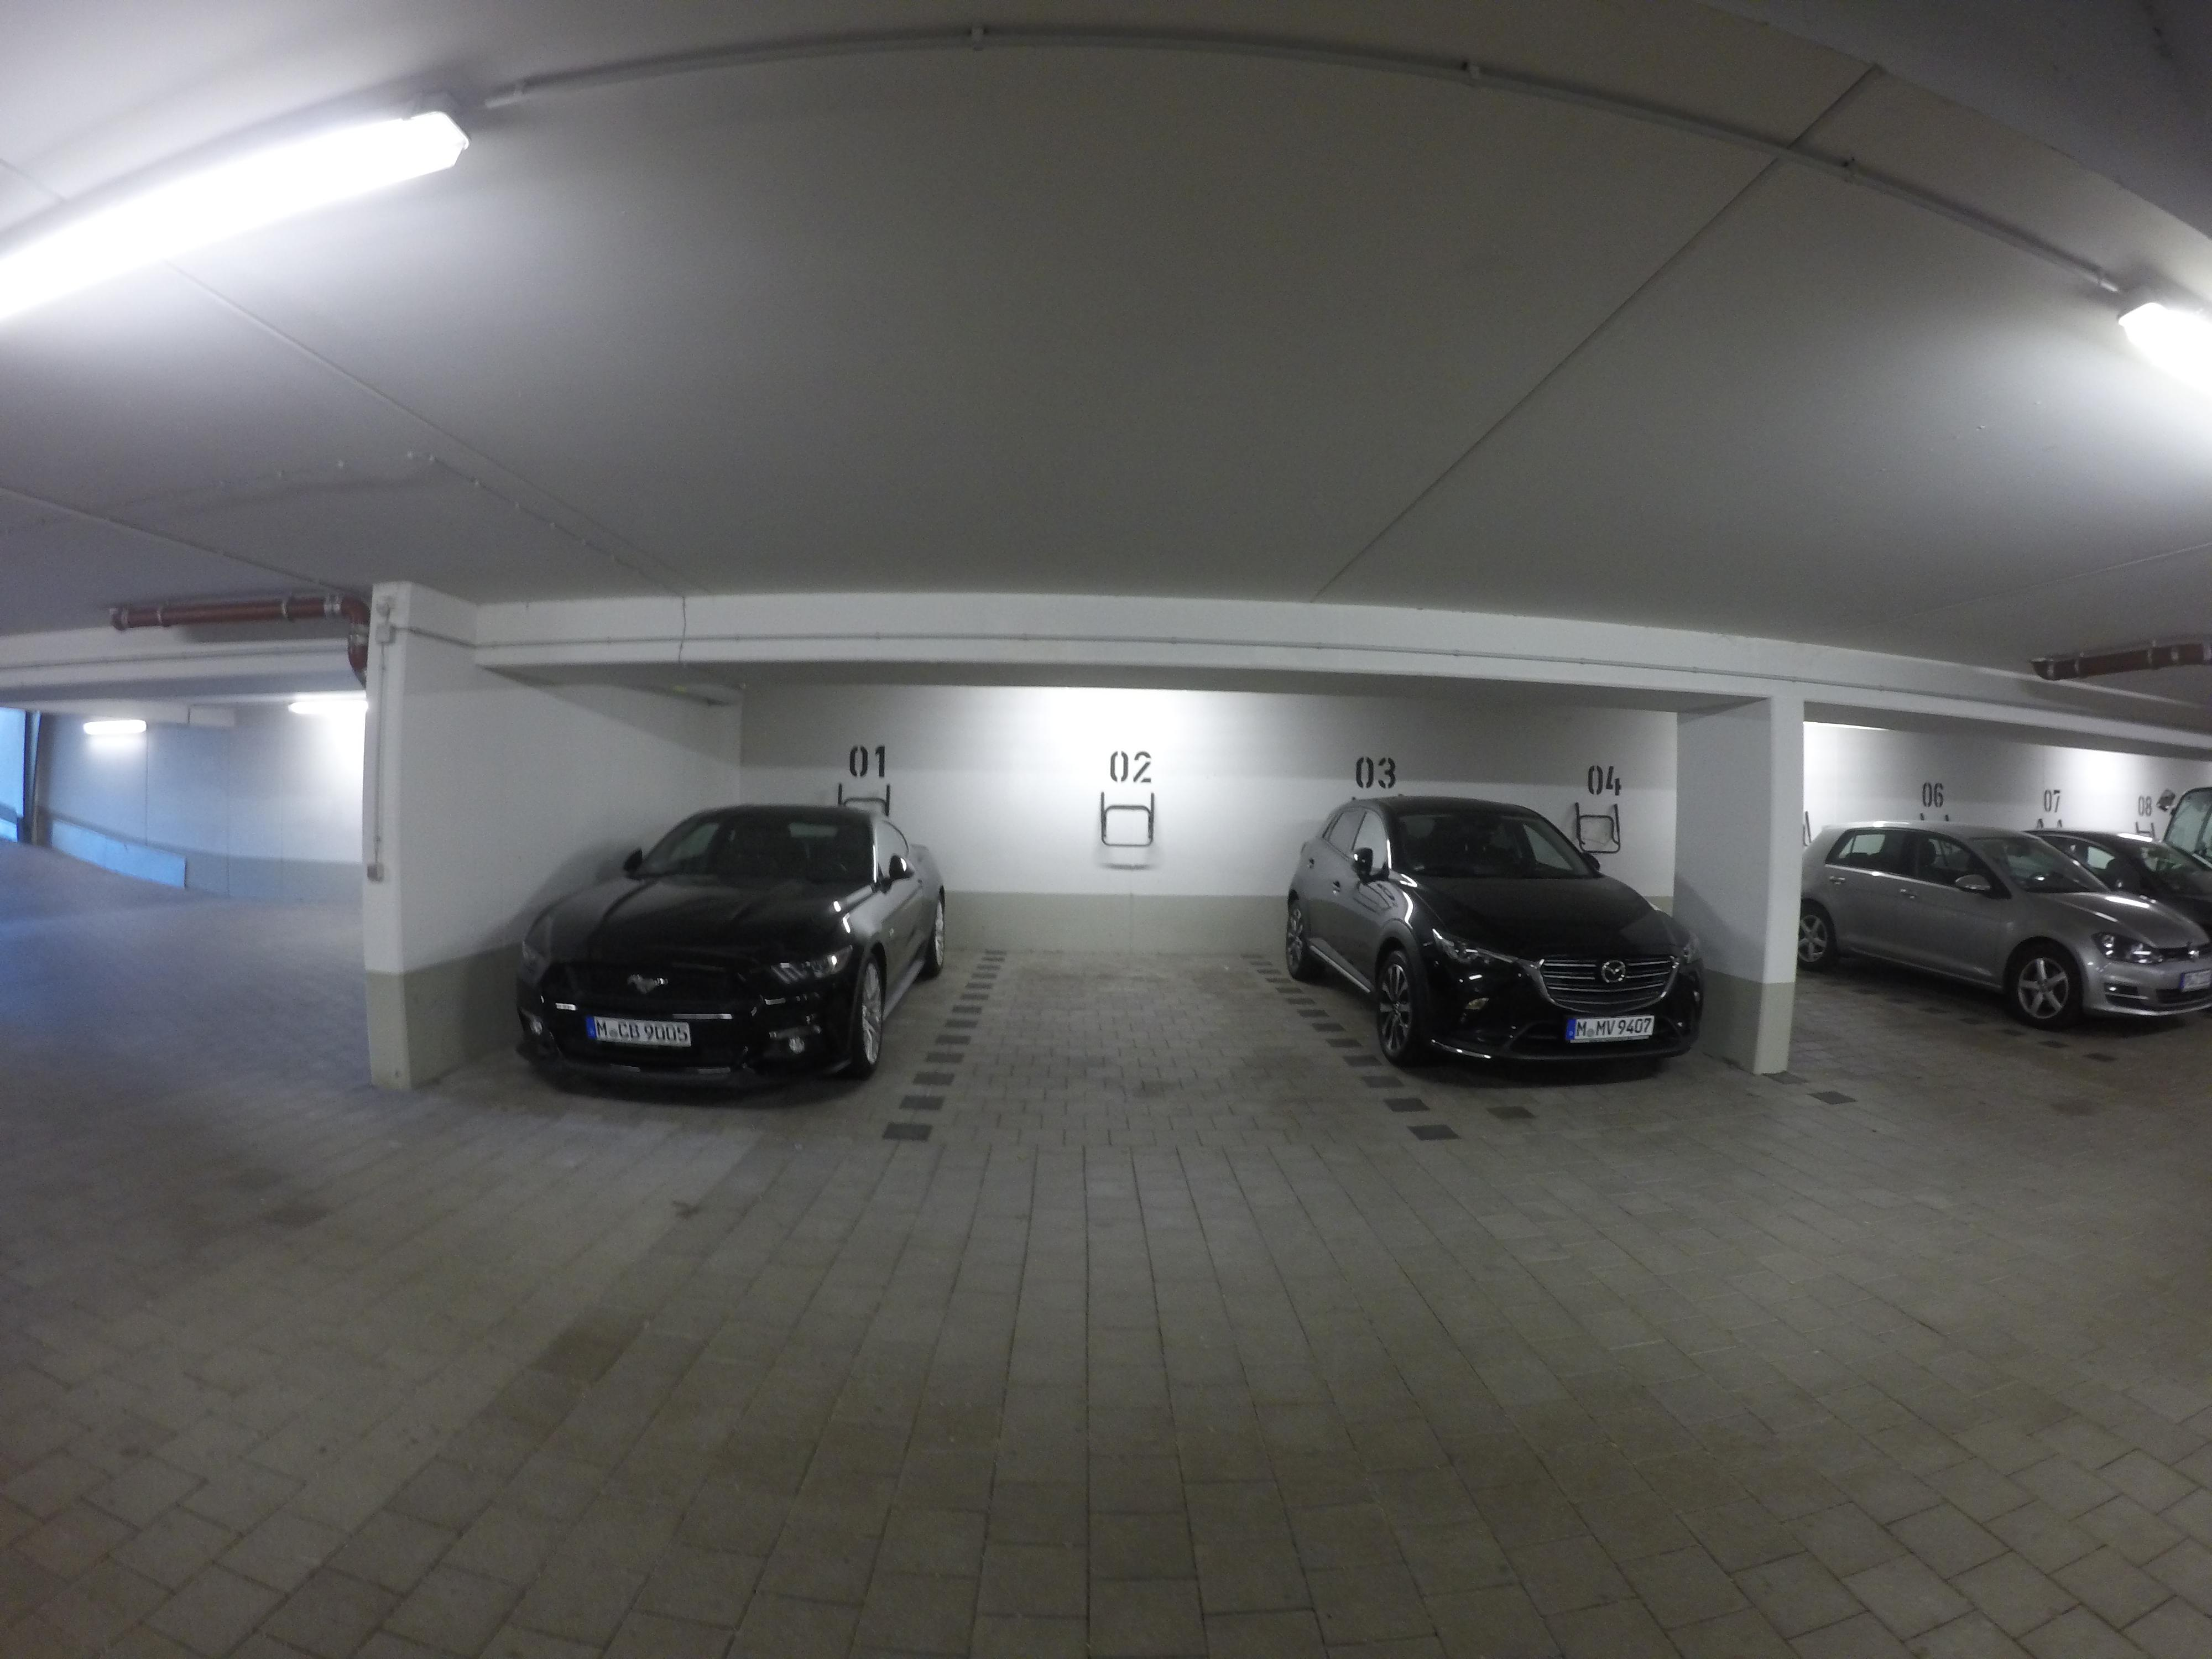0: (654, 1024, 666, 1041), (665, 1024, 677, 1041)
4: (1635, 1018, 1643, 1034), (1626, 1019, 1634, 1034)
5: (676, 1024, 688, 1042)
7: (1644, 1018, 1651, 1033)
9: (643, 1022, 654, 1040), (1618, 1019, 1626, 1035)
B: (628, 1022, 640, 1039)
C: (617, 1021, 629, 1039)
M: (596, 1019, 608, 1037), (1576, 1021, 1587, 1037), (1595, 1020, 1606, 1036)
V: (1606, 1019, 1615, 1035)
